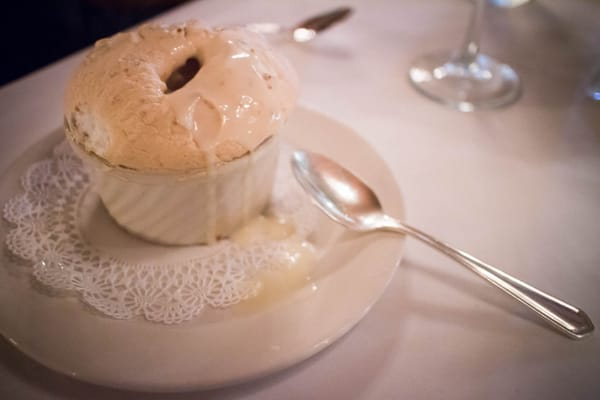burger: (290, 149, 594, 343)
salad: (289, 148, 594, 342)
